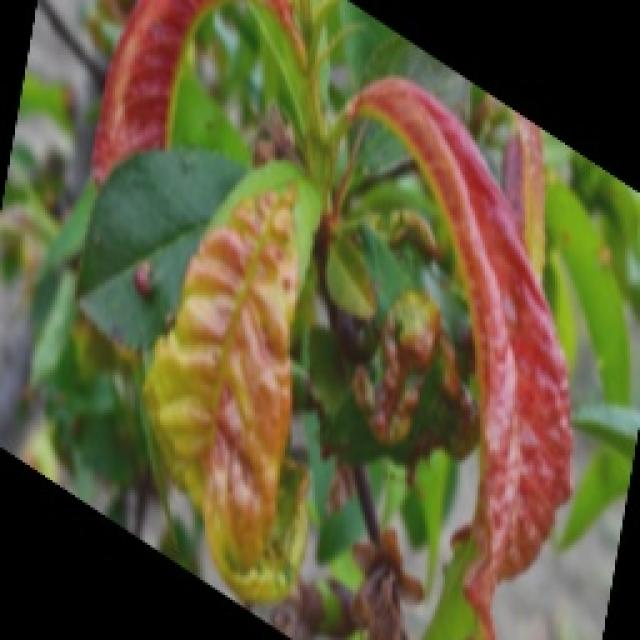peach_leaf_curl: (172, 245, 366, 629), (413, 274, 619, 581)
